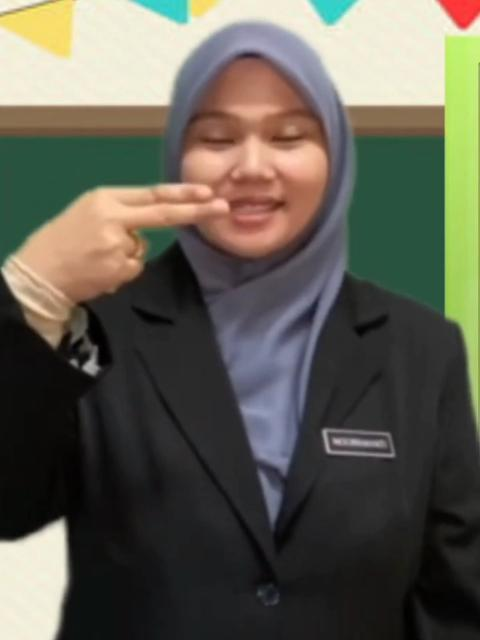H: (16, 182, 229, 298)
